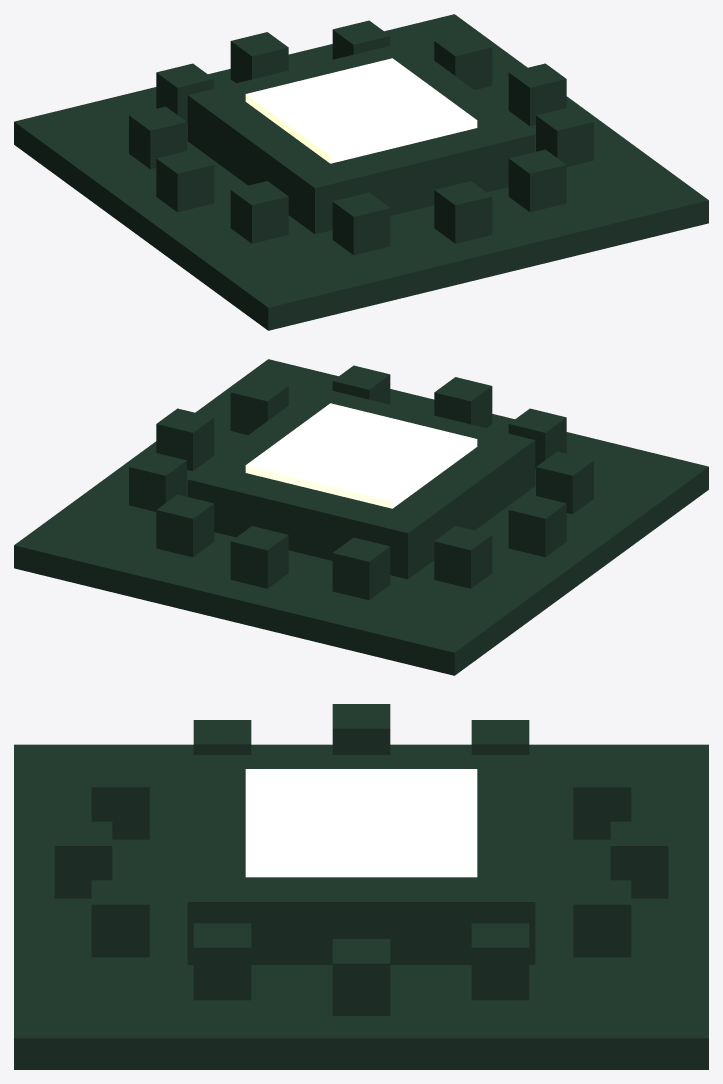
3 renders of one model, top to bottom at view 1: azimuth 30°, elevation 25°; view 2: azimuth 150°, elevation 25°; view 3: azimuth 270°, elevation 25°, orthographic. The views are drawn at different scales.
Bounding box in the file's own units: 0.6 × 0.1 × 0.6.
